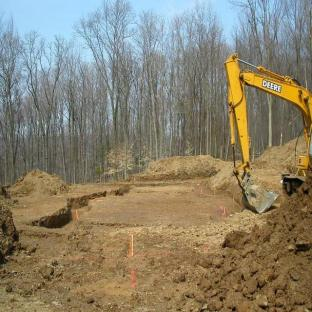ExcavationMachinery: (220, 43, 312, 221)
